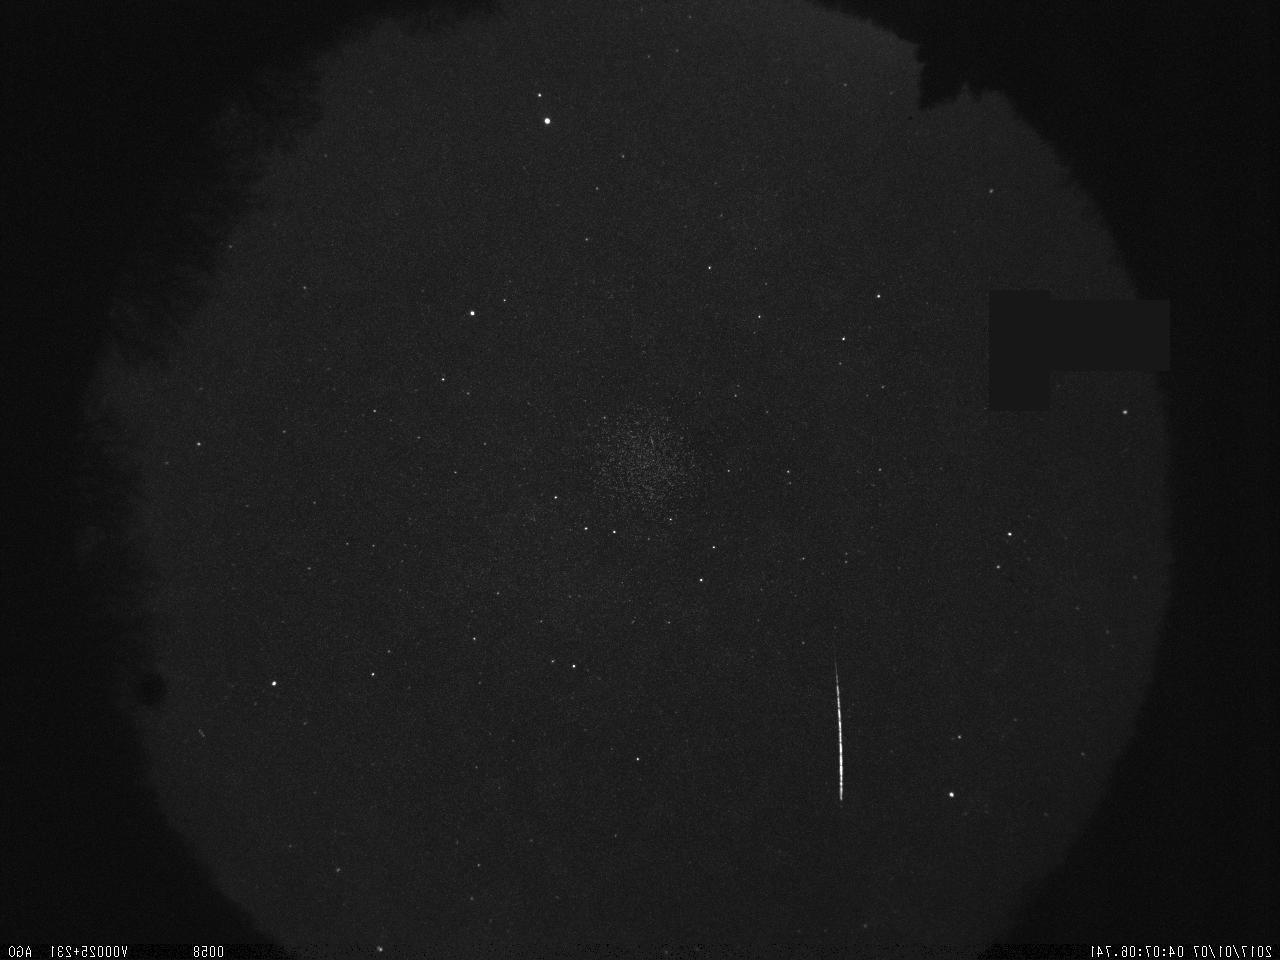meteor: (817, 631, 856, 811)
